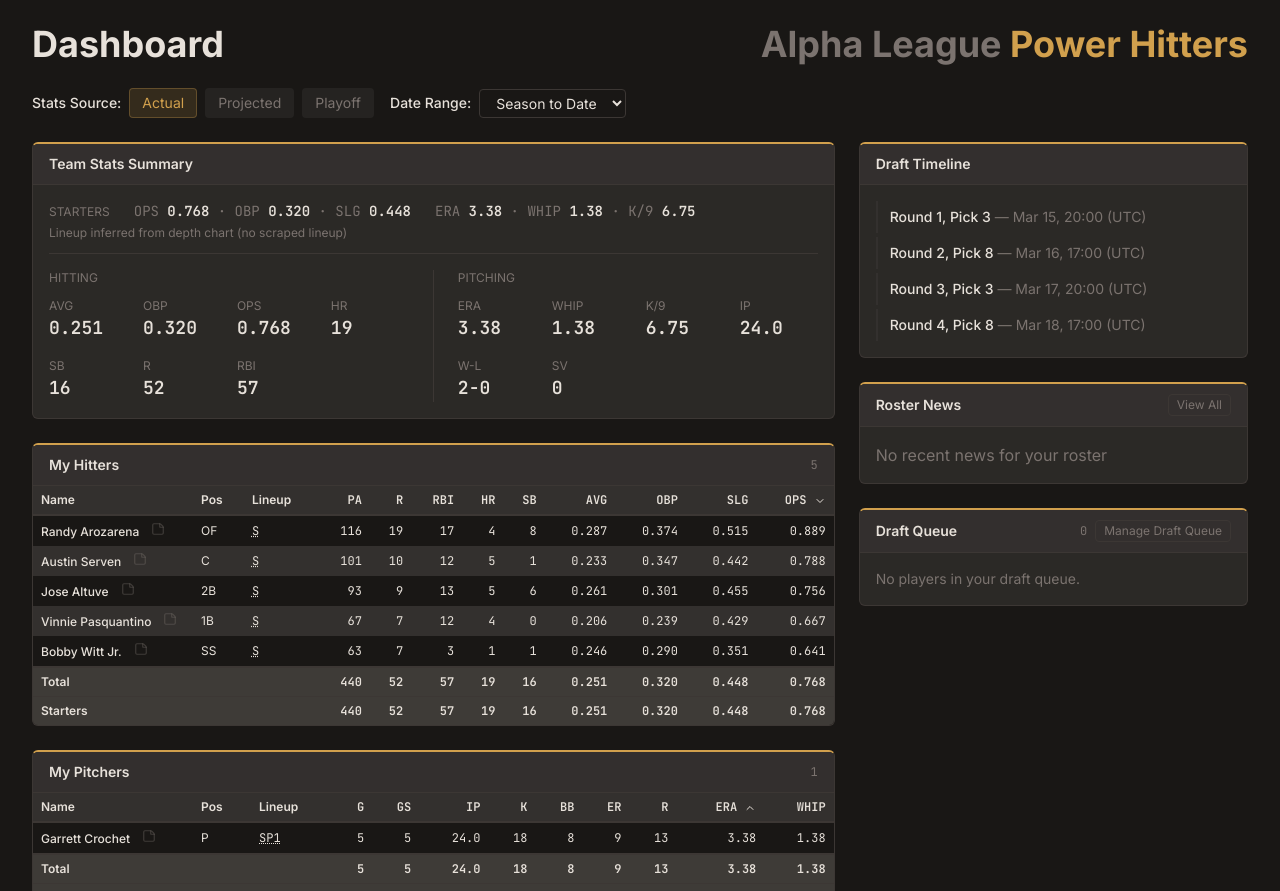
Test case: DashboardPage › should show custom date inputs when Custom Range is selected
This screenshot has width=1280, height=891.
Select "Custom Range" in the dropdown showing "Season to Date" at (553, 103), box x1=479 y1=88 x2=626 y2=118
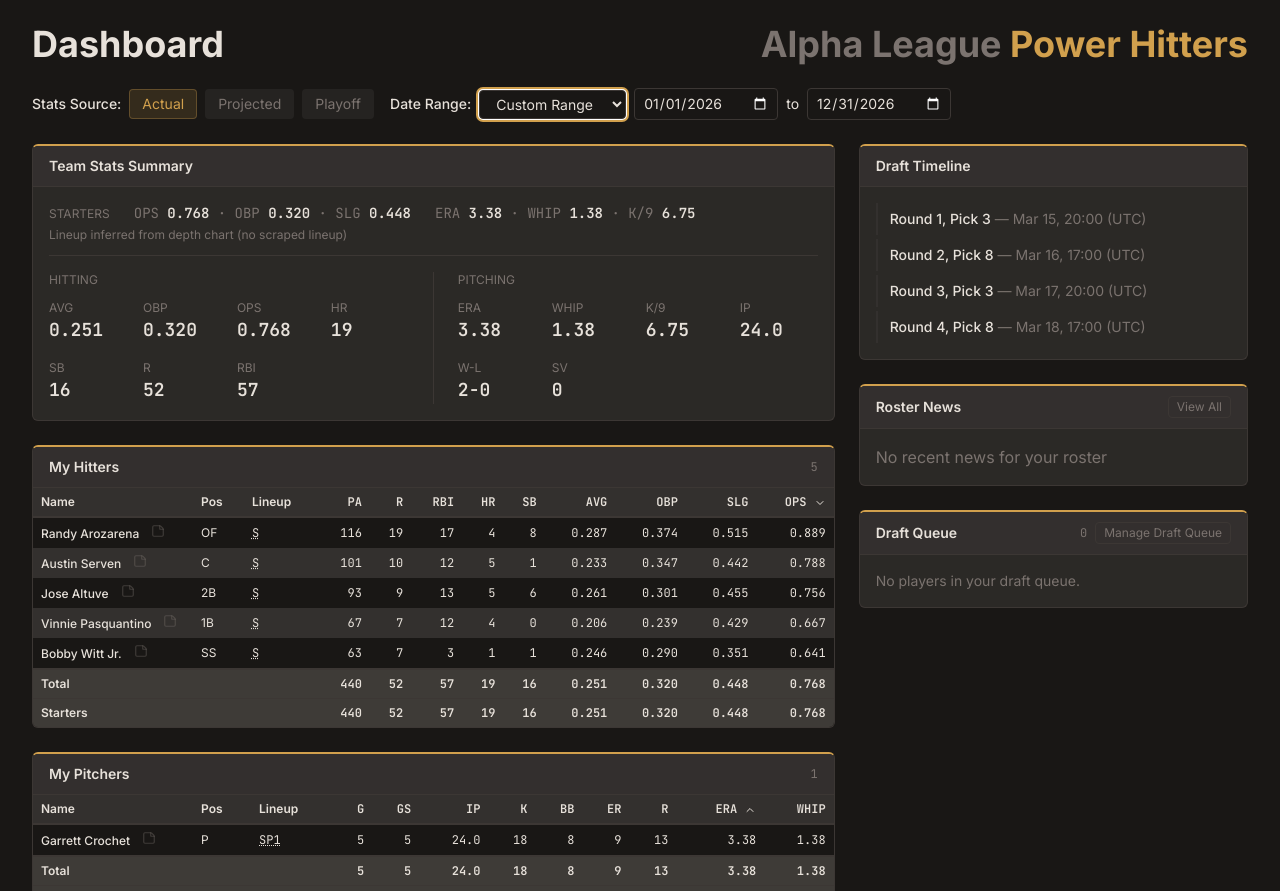
Expected: the text "to" is shown, x1=786 y1=94 x2=799 y2=114
